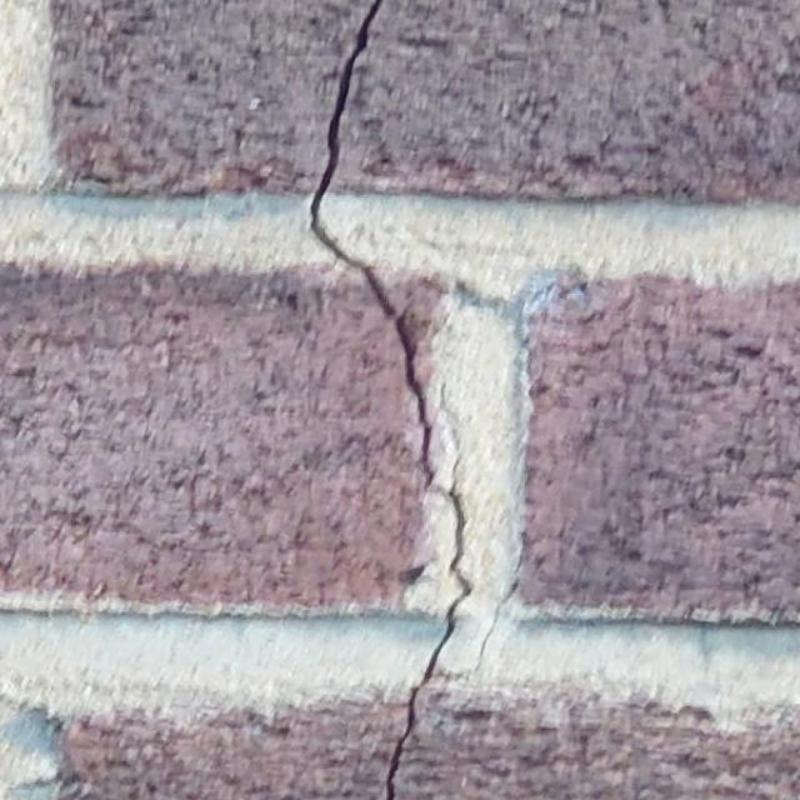pothole: (309, 4, 471, 799), (469, 535, 525, 676), (440, 384, 461, 489)
